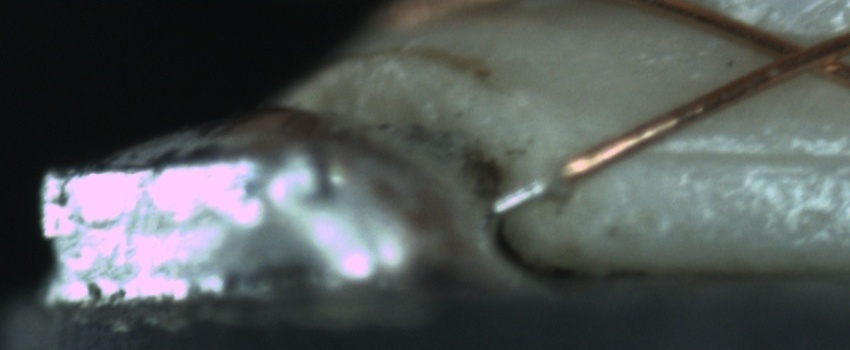CL: (753, 25, 842, 86)
DL: (629, 124, 850, 185)
TS: (489, 167, 568, 220)
TTCW: (487, 151, 591, 220)
